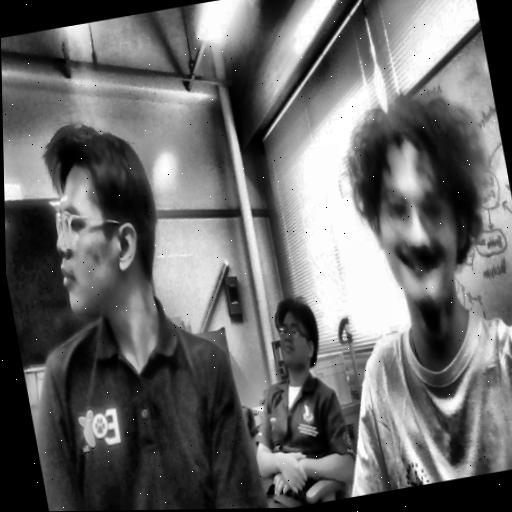Daifuku: (338, 85, 505, 319)
Not Daifuku: (33, 116, 177, 338), (265, 293, 328, 388)
